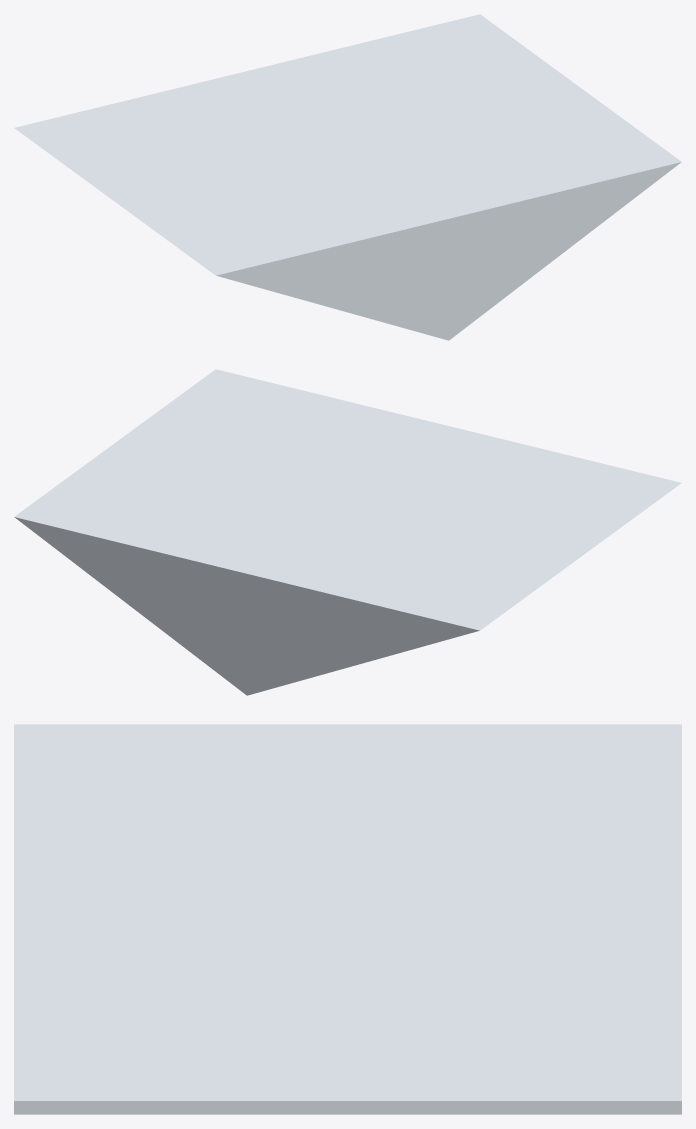
The model's file is Arrow2.gltf.
The picture shows the model from 3 angles, top to bottom: view 1: azimuth 30°, elevation 25°; view 2: azimuth 150°, elevation 25°; view 3: azimuth 270°, elevation 25°; orthographic projection. The views are drawn at different scales.
Parts seen in each view (by area): view 1: cuboid; view 2: cuboid; view 3: cuboid.
Part boxes in pixels (x1=…): cuboid: x1=14, y1=14, x2=681, y2=340; cuboid: x1=14, y1=369, x2=681, y2=695; cuboid: x1=14, y1=724, x2=681, y2=1114.
Bounding box in the file's own units: 0.25 × 0.0625 × 0.1875.
Materials: 1 (1 with a texture image).
